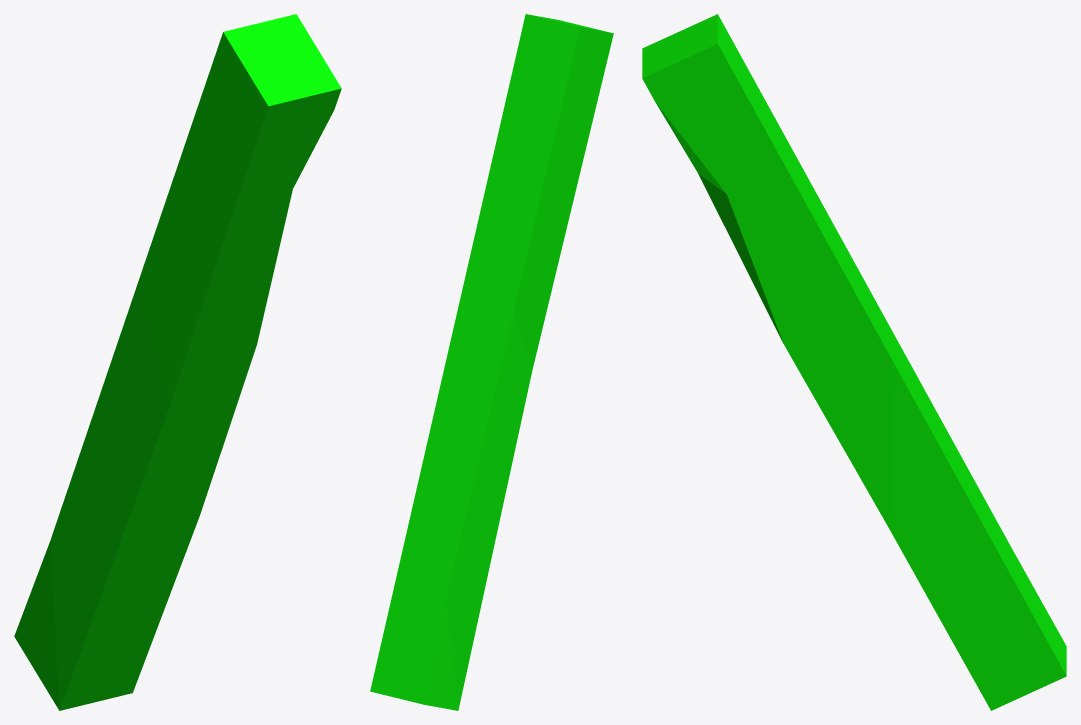
The model's file is SM_Roof_Steep_Truss_Wood_Diagonal_2m.fbx.
The picture shows the model from 3 angles, left to right: view 1: azimuth 30°, elevation 25°; view 2: azimuth 150°, elevation 25°; view 3: azimuth 270°, elevation 25°; orthographic projection. The views are drawn at different scales.
Visible parts, largest first — view 1: roof-steep-truss-wood-diagonal-2m; view 2: roof-steep-truss-wood-diagonal-2m; view 3: roof-steep-truss-wood-diagonal-2m.
Part boxes in pixels (left/top/right/bottom): roof-steep-truss-wood-diagonal-2m: left=14, top=14, right=341, bottom=710; roof-steep-truss-wood-diagonal-2m: left=370, top=14, right=613, bottom=710; roof-steep-truss-wood-diagonal-2m: left=642, top=14, right=1066, bottom=710.
Size of the model in its own units: 0.22 by 2.11 by 1.22.
